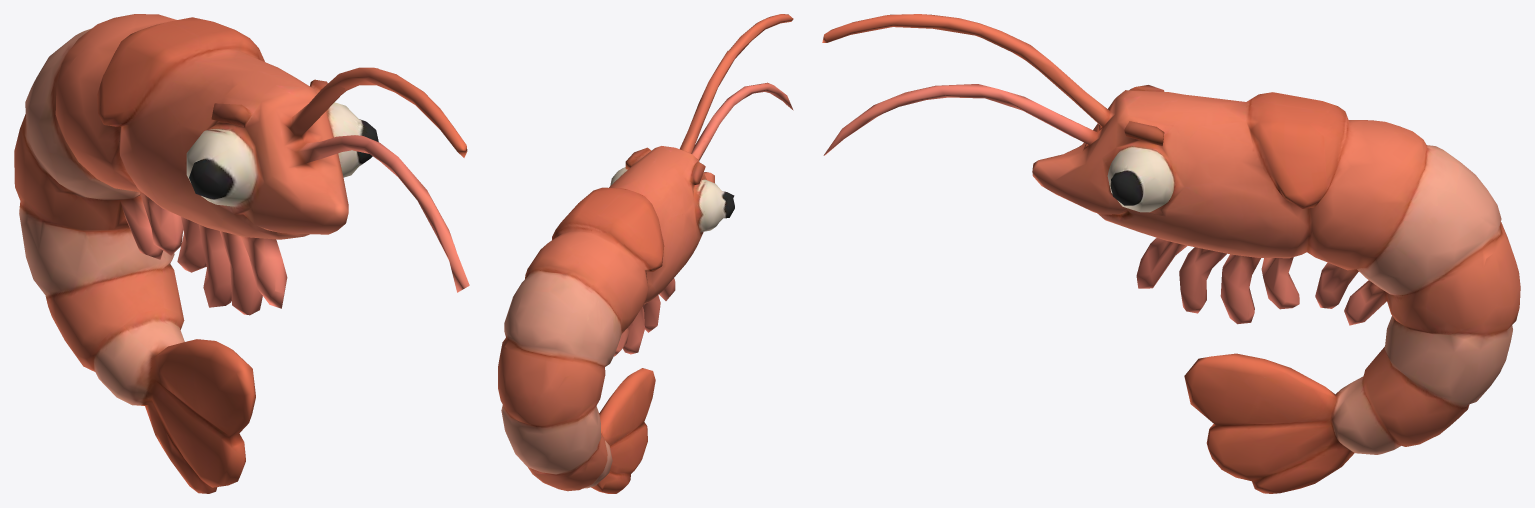
Rendered from fish-shrimp.glb.
The picture shows the model from 3 angles, left to right: view 1: azimuth 30°, elevation 25°; view 2: azimuth 150°, elevation 25°; view 3: azimuth 270°, elevation 25°; orthographic projection. The views are drawn at different scales.
Parts seen in each view (by area): view 1: tripo_node_e2ff1c4a-2b4d-4f41-ac9f-6712350c8711; view 2: tripo_node_e2ff1c4a-2b4d-4f41-ac9f-6712350c8711; view 3: tripo_node_e2ff1c4a-2b4d-4f41-ac9f-6712350c8711.
Part boxes in pixels (left/top/right/bottom): tripo_node_e2ff1c4a-2b4d-4f41-ac9f-6712350c8711: left=14, top=14, right=469, bottom=493; tripo_node_e2ff1c4a-2b4d-4f41-ac9f-6712350c8711: left=498, top=14, right=793, bottom=493; tripo_node_e2ff1c4a-2b4d-4f41-ac9f-6712350c8711: left=822, top=14, right=1520, bottom=493.
Size of the model in its own units: 0.2577 by 0.7559 by 1.
Materials: 1 (1 with a texture image).
